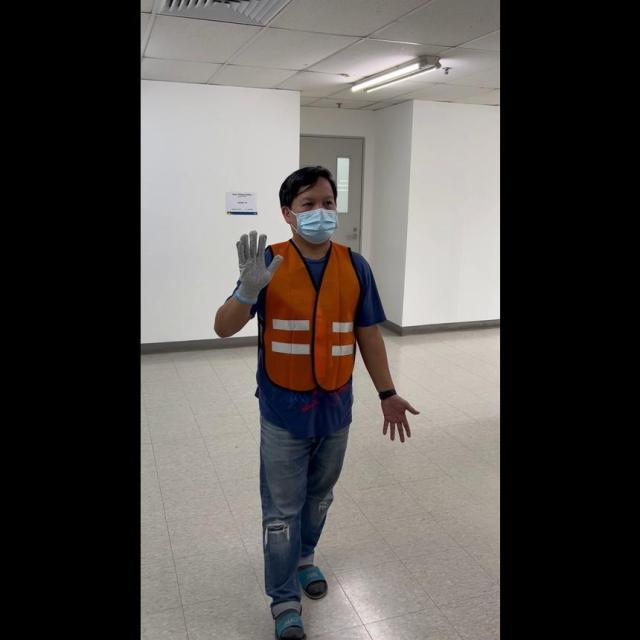bare_hand: (375, 391, 418, 441)
gloved_hand: (229, 228, 281, 301)
